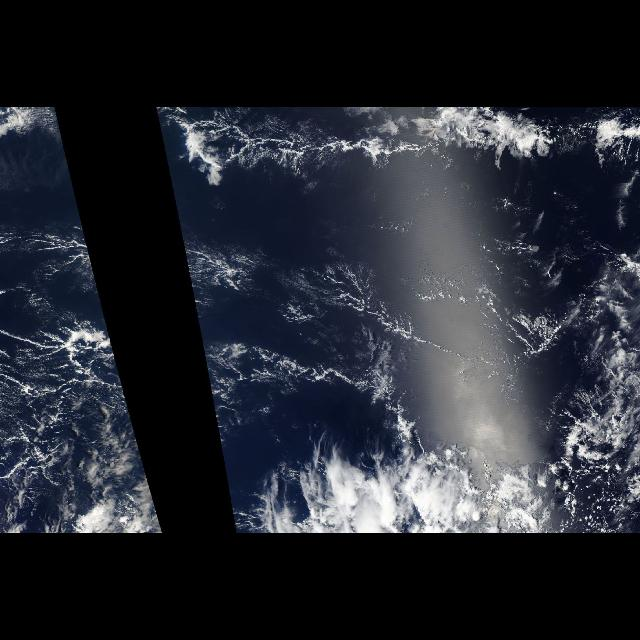Fish: (154, 108, 640, 188)
Gravel: (2, 320, 122, 480), (528, 454, 638, 532)
